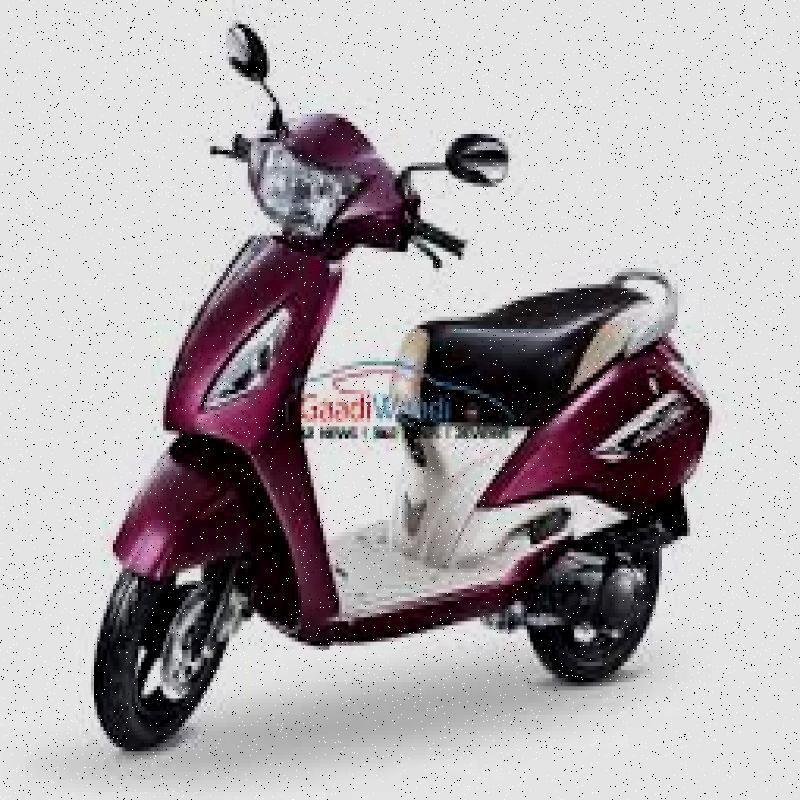bike: (104, 10, 710, 768)
